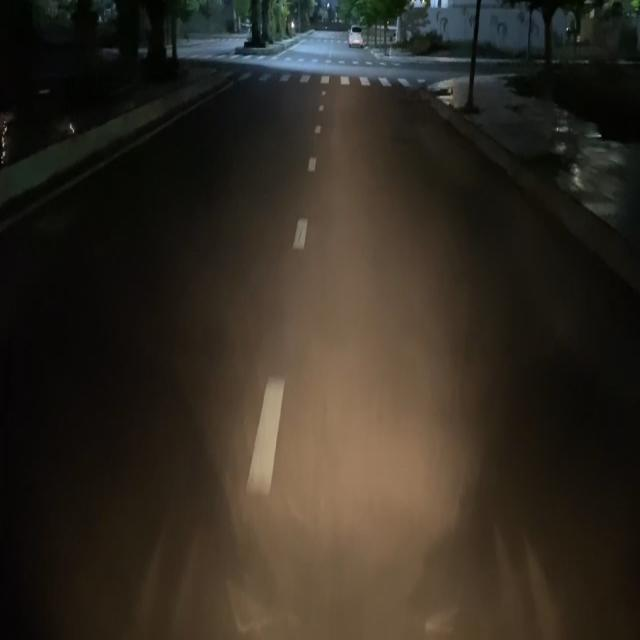walk-crossing: (240, 65, 442, 93)
